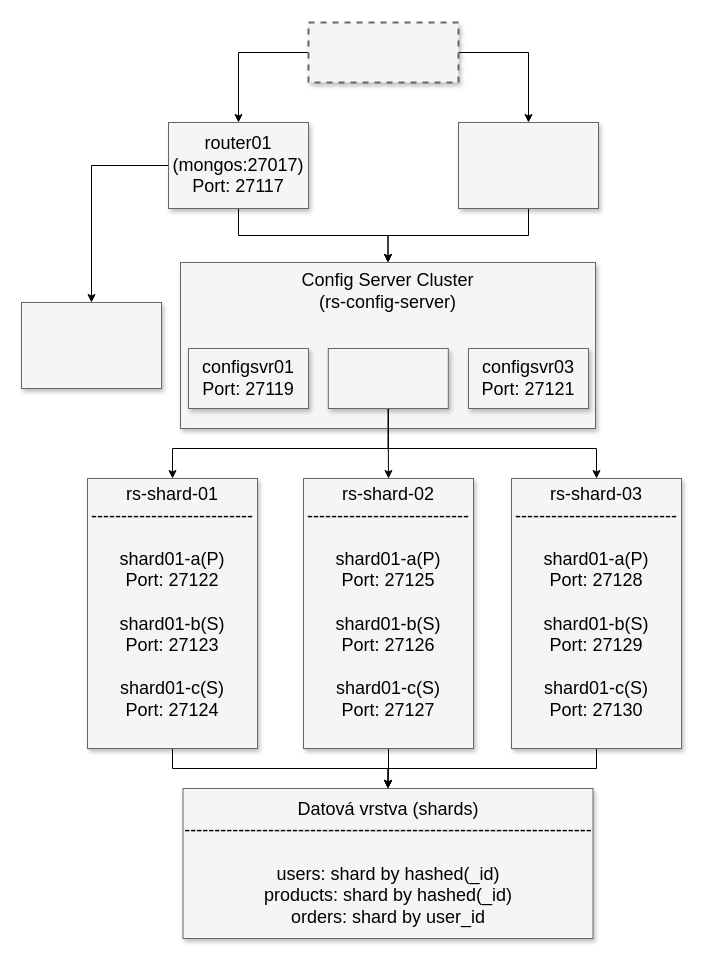
The diagram is 705 pixels wide and 963 high, and some of its shapes have lost their labels. Here are the shapes that lost their labels. From the top down, the centre of each, then its label:
At [384,53]: "Klienti / Aplikace".
At [529,167]: "router02 (mongos:27017) Port: 27118".
At [92,347]: "Mongo Express Port: 8081".
At [388,380]: "configsvr02 Port: 27120".
